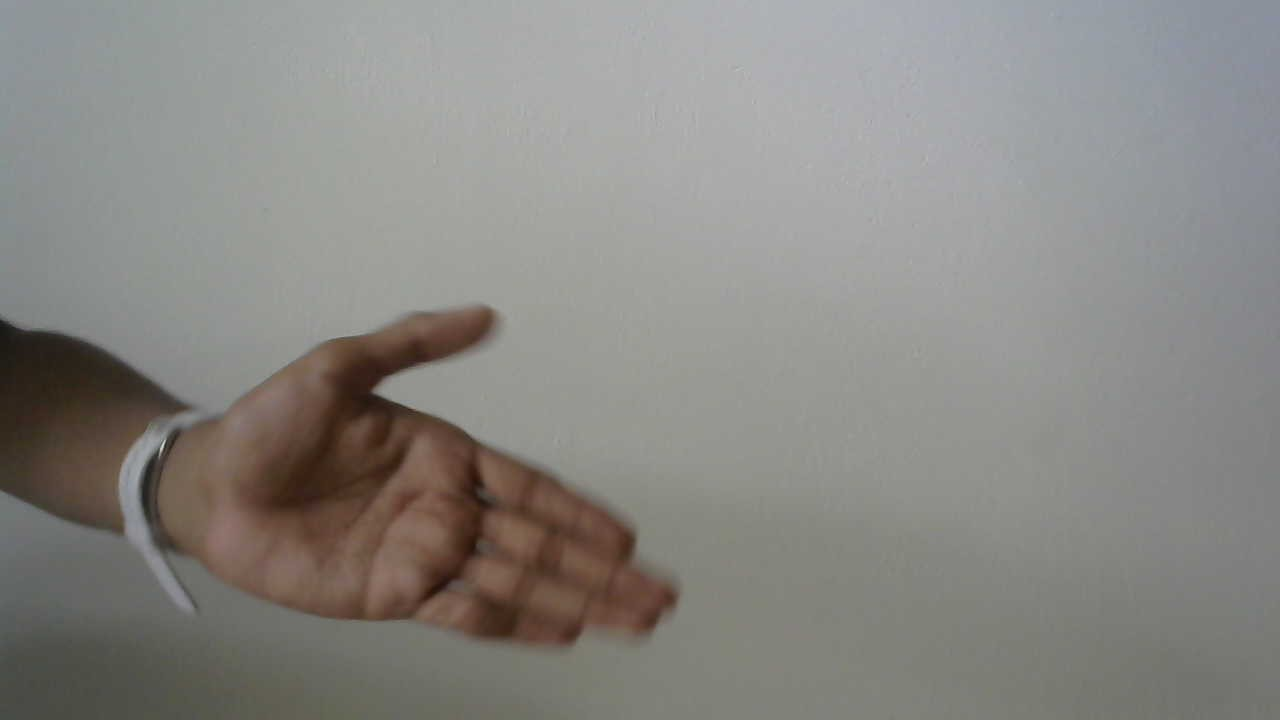hello: (186, 298, 716, 661)
